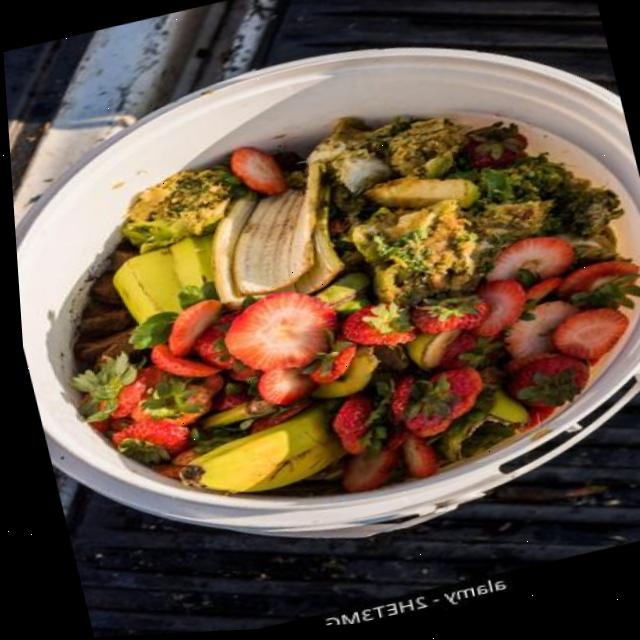Wet: (199, 173, 348, 305), (166, 408, 328, 504), (205, 283, 356, 382), (498, 296, 632, 379), (94, 239, 212, 325), (380, 368, 487, 445), (488, 241, 565, 290)
